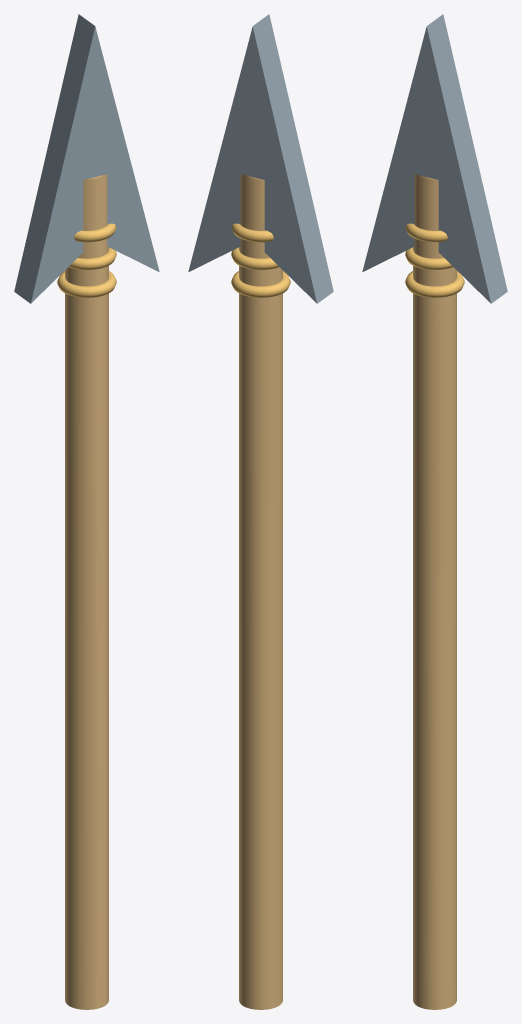
Rendered from SPEAR.glb.
3 renders of one model, left to right at view 1: azimuth 30°, elevation 25°; view 2: azimuth 150°, elevation 25°; view 3: azimuth 330°, elevation 25°, orthographic.
Parts seen in each view (by area): view 1: SPEAR; view 2: SPEAR; view 3: SPEAR.
Boxes of the visible parts, left/top/right/bottom form: SPEAR: left=14, top=14, right=159, bottom=1009; SPEAR: left=188, top=14, right=333, bottom=1009; SPEAR: left=362, top=14, right=507, bottom=1009.
Size of the model in its own units: 0.17 by 1.23 by 0.068.
Materials: 3 (1 with a texture image).
